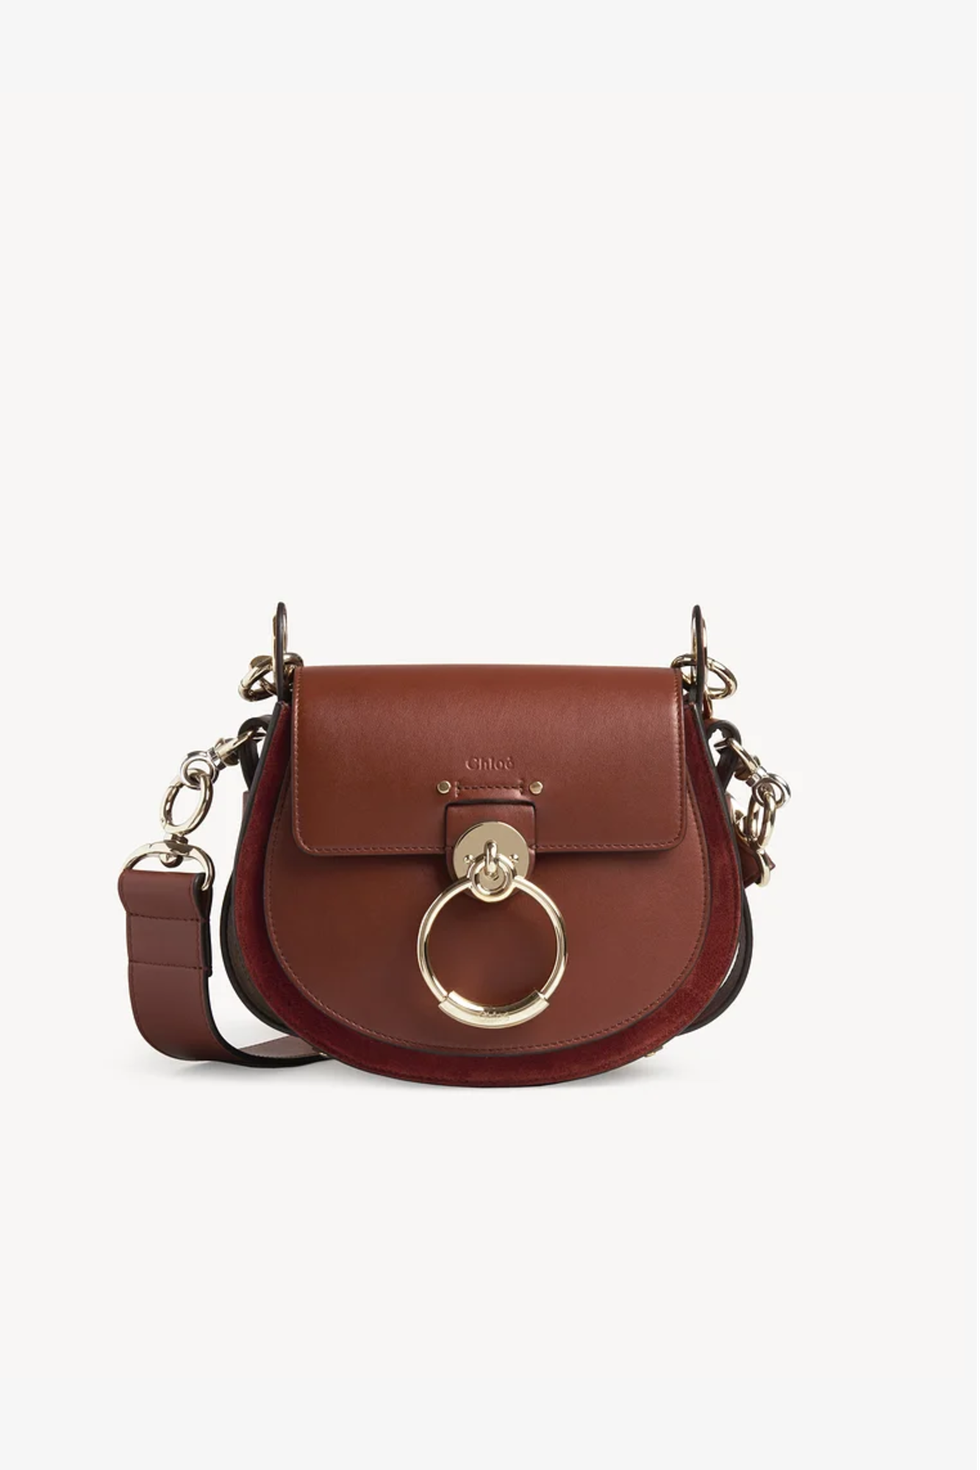cartera: (119, 590, 795, 1102)
lona: (224, 640, 790, 1095)
